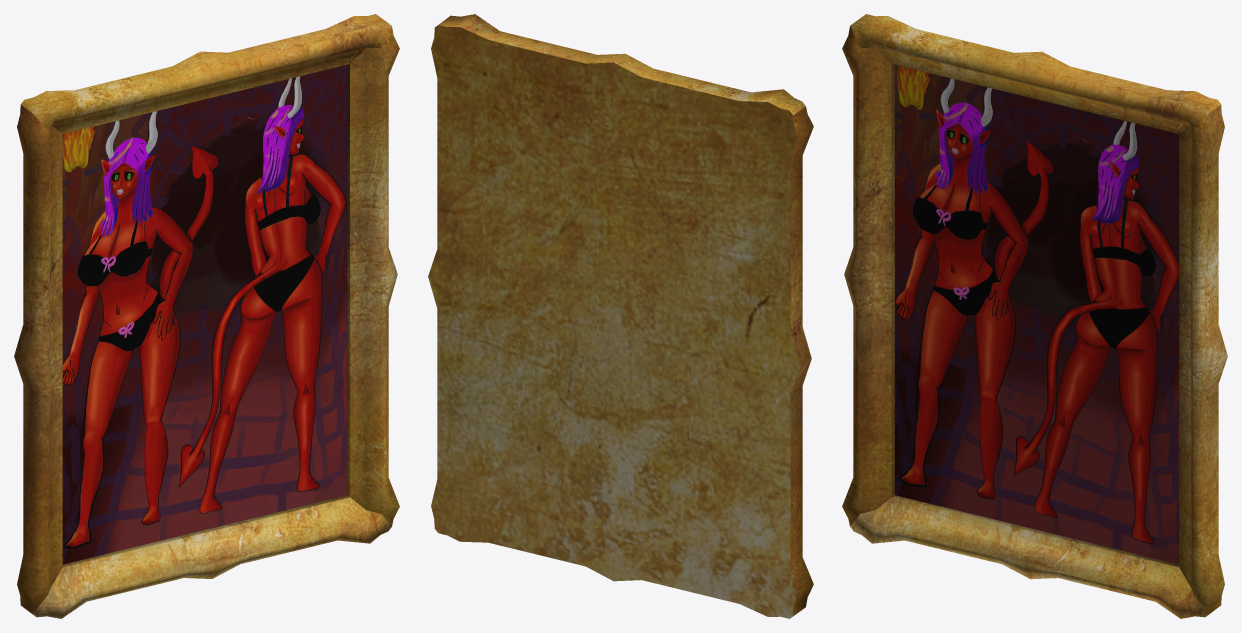
The model's file is painting_new_14.dae.
3 views of the same model, side by side, from view 1: azimuth 30°, elevation 25°; view 2: azimuth 150°, elevation 25°; view 3: azimuth 330°, elevation 25° (orthographic).
Visible parts, largest first — view 1: painting_image05, painting_frame05; view 2: painting_frame05; view 3: painting_image05, painting_frame05.
Boxes of the visible parts, x1,y1,x2,y2 form: painting_image05: [62, 65, 346, 564]; painting_frame05: [14, 14, 399, 618]; painting_frame05: [428, 14, 813, 618]; painting_image05: [895, 65, 1179, 564]; painting_frame05: [842, 14, 1227, 618].
Bounding box in the file's own units: 1.8 × 2.4 × 0.134.
